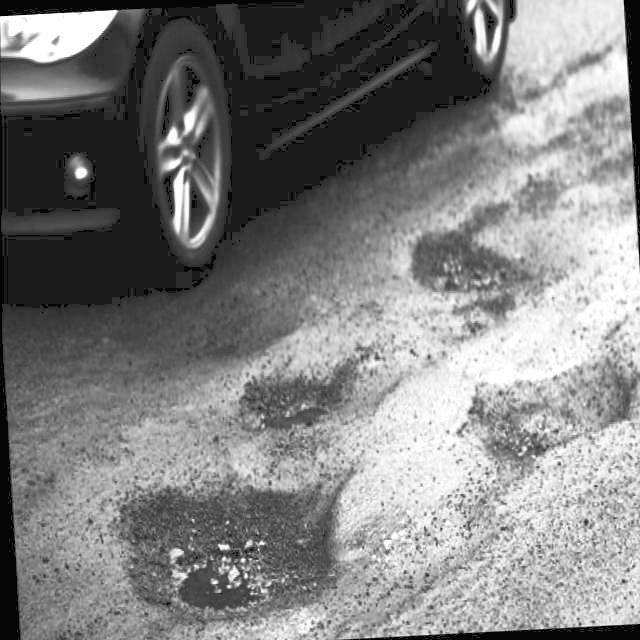Pothole: (134, 450, 349, 633), (462, 353, 632, 472), (236, 342, 358, 439), (411, 210, 514, 301)
